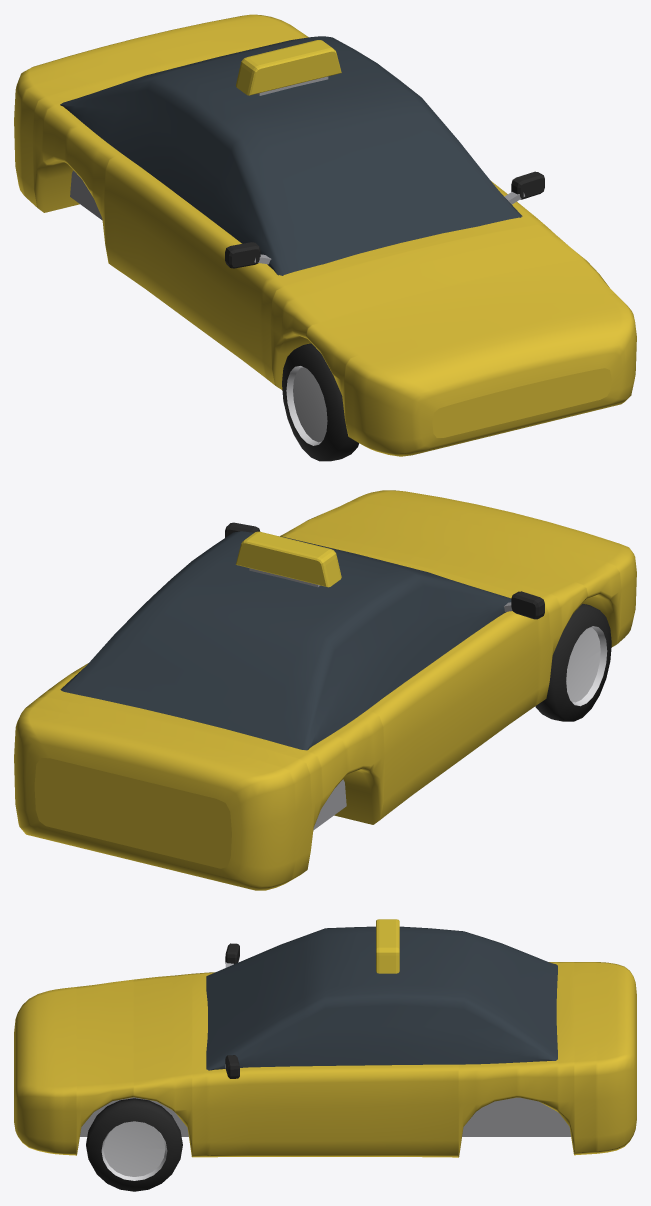
File: vehicle_taxi.glb
The picture shows the model from 3 angles, top to bottom: view 1: azimuth 30°, elevation 25°; view 2: azimuth 150°, elevation 25°; view 3: azimuth 270°, elevation 25°; orthographic projection. The views are drawn at different scales.
Visible parts, largest first — view 1: taxi; view 2: taxi; view 3: taxi.
Part boxes in pixels (<box>): taxi: <box>14,14,636,461</box>; taxi: <box>14,490,636,890</box>; taxi: <box>14,919,636,1191</box>.
Size of the model in its own units: 2.11 by 1.65 by 4.5.
